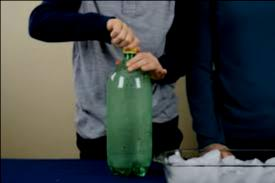Plastic: (104, 46, 154, 178)
